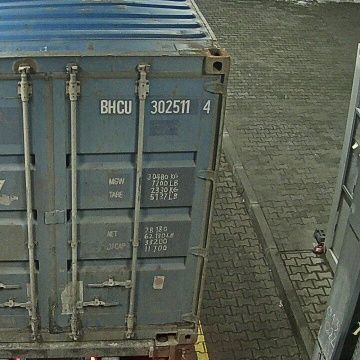serial_id: (101, 100, 211, 114)
